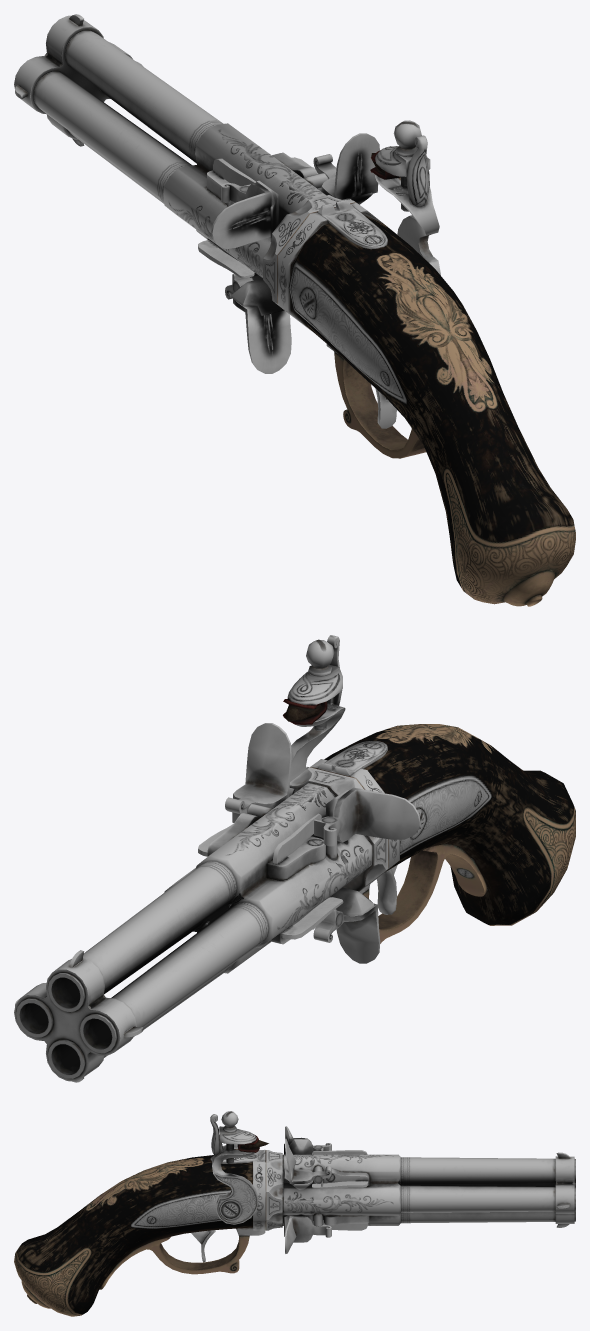
Rendered from pistol.obj.
The picture shows the model from 3 angles, top to bottom: view 1: azimuth 30°, elevation 25°; view 2: azimuth 150°, elevation 25°; view 3: azimuth 270°, elevation 25°; orthographic projection. The views are drawn at different scales.
Parts seen in each view (by area): view 1: pistol; view 2: pistol; view 3: pistol.
Boxes of the visible parts, left/top/right/bottom form: pistol: left=14, top=14, right=575, bottom=606; pistol: left=14, top=635, right=575, bottom=1082; pistol: left=14, top=1111, right=575, bottom=1316.
Bounding box in the file's own units: 0.116 × 0.1957 × 0.4667.
Materials: 1 (1 with a texture image).
